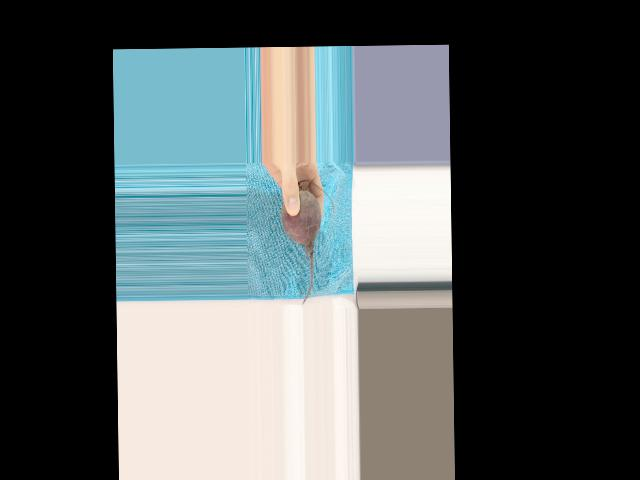beet: (280, 180, 334, 305)
